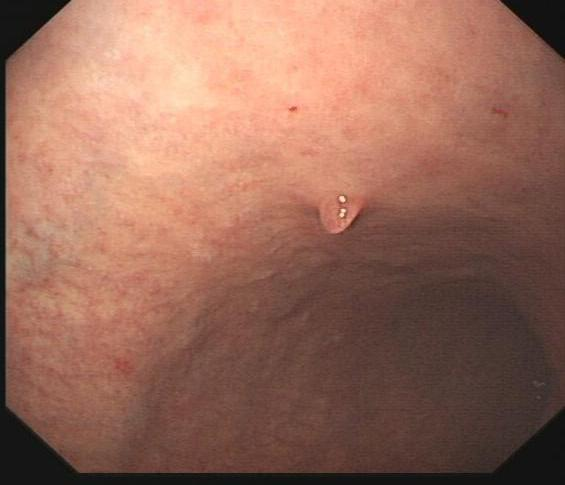Polyp: (300, 174, 379, 251)
